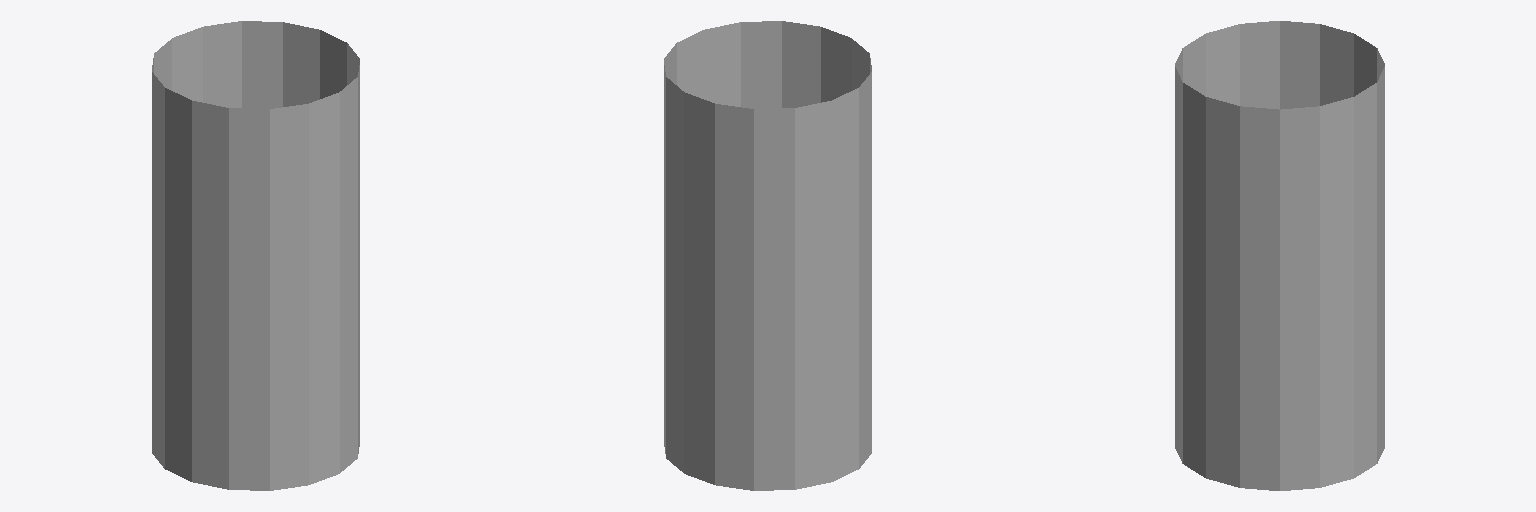
File: player_Border_2to1_cylinder.obj
The picture shows the model from 3 angles: view 1: azimuth 30°, elevation 25°; view 2: azimuth 150°, elevation 25°; view 3: azimuth 270°, elevation 25°; orthographic projection.
Bounding box in the file's own units: 2 × 4 × 2.